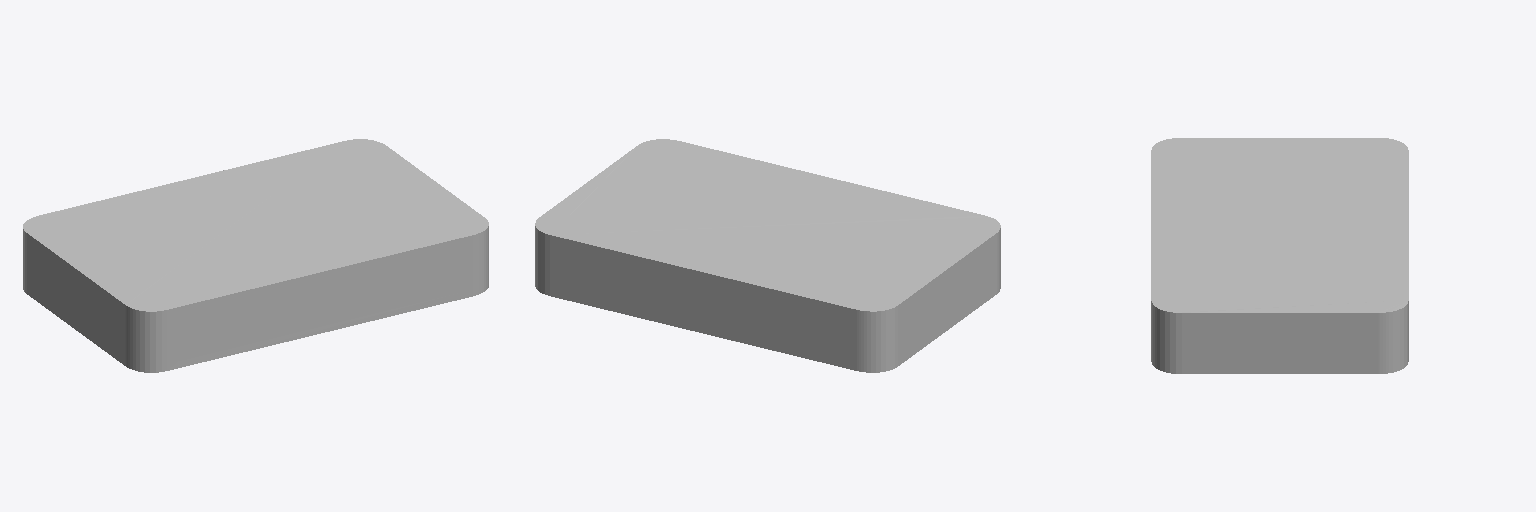
Rendered from vinyl_player.obj.
3 renders of one model, left to right at view 1: azimuth 30°, elevation 25°; view 2: azimuth 150°, elevation 25°; view 3: azimuth 270°, elevation 25°, orthographic.
Parts seen in each view (by area): view 1: Curve; view 2: Curve; view 3: Curve.
Boxes of the visible parts, x1=… form: Curve: x1=23, y1=139, x2=488, y2=372; Curve: x1=535, y1=139, x2=1000, y2=372; Curve: x1=1151, y1=138, x2=1408, y2=373.
Bounding box in the file's own units: 3.16 × 0.5158 × 1.96.